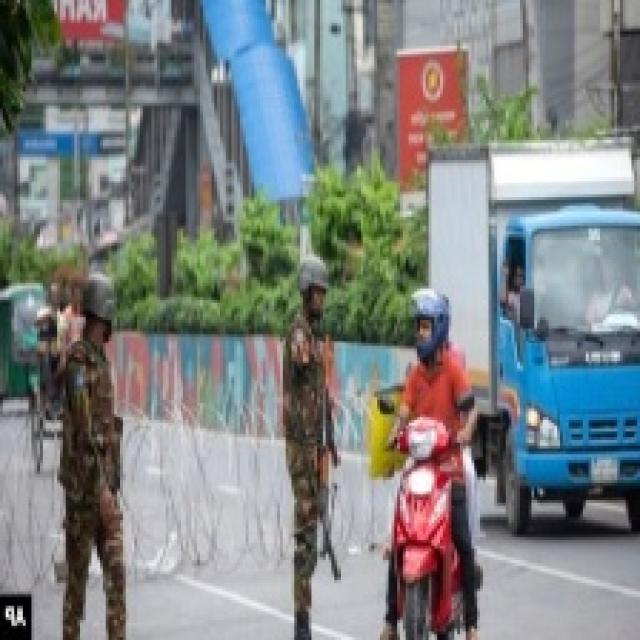bike: (381, 403, 480, 637)
